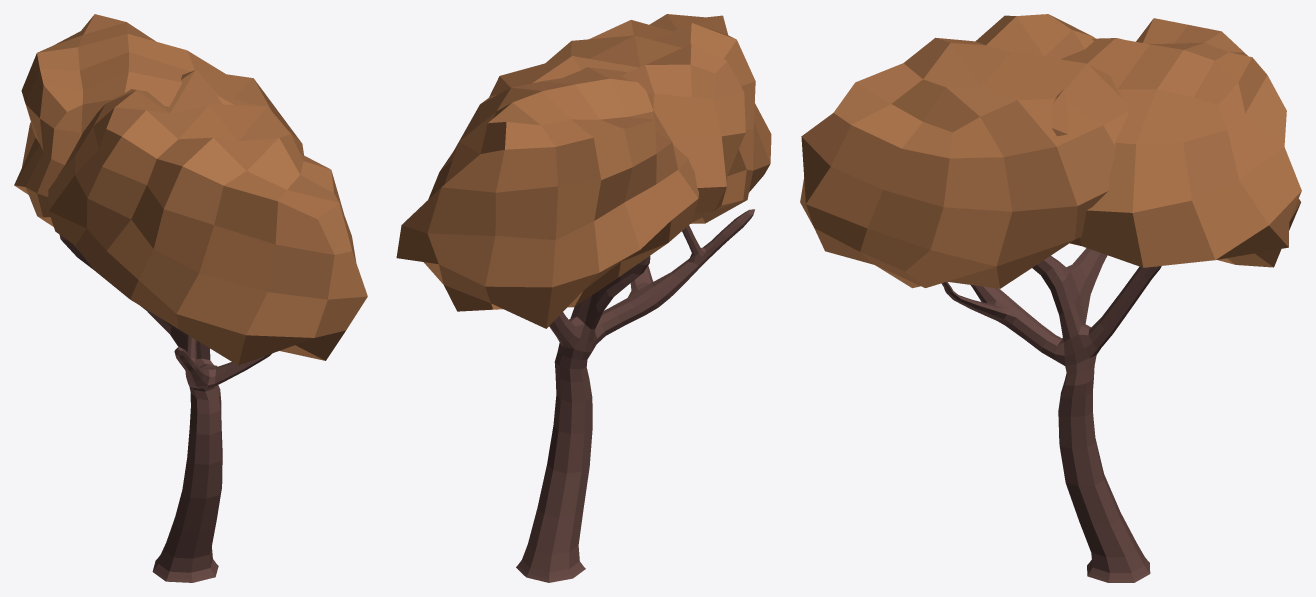
Rendered from CommonTree_Autumn_5-transformed.glb.
3 views of the same model, side by side, from view 1: azimuth 30°, elevation 25°; view 2: azimuth 150°, elevation 25°; view 3: azimuth 270°, elevation 25° (orthographic). The views are drawn at different scales.
Visible parts, largest first — view 1: CommonTree_Autumn_5; view 2: CommonTree_Autumn_5; view 3: CommonTree_Autumn_5.
Boxes of the visible parts, left/top/right/bottom form: CommonTree_Autumn_5: left=14, top=14, right=367, bottom=582; CommonTree_Autumn_5: left=396, top=14, right=771, bottom=582; CommonTree_Autumn_5: left=800, top=14, right=1301, bottom=582.
Size of the model in its own units: 1.29 by 2.53 by 2.25.
